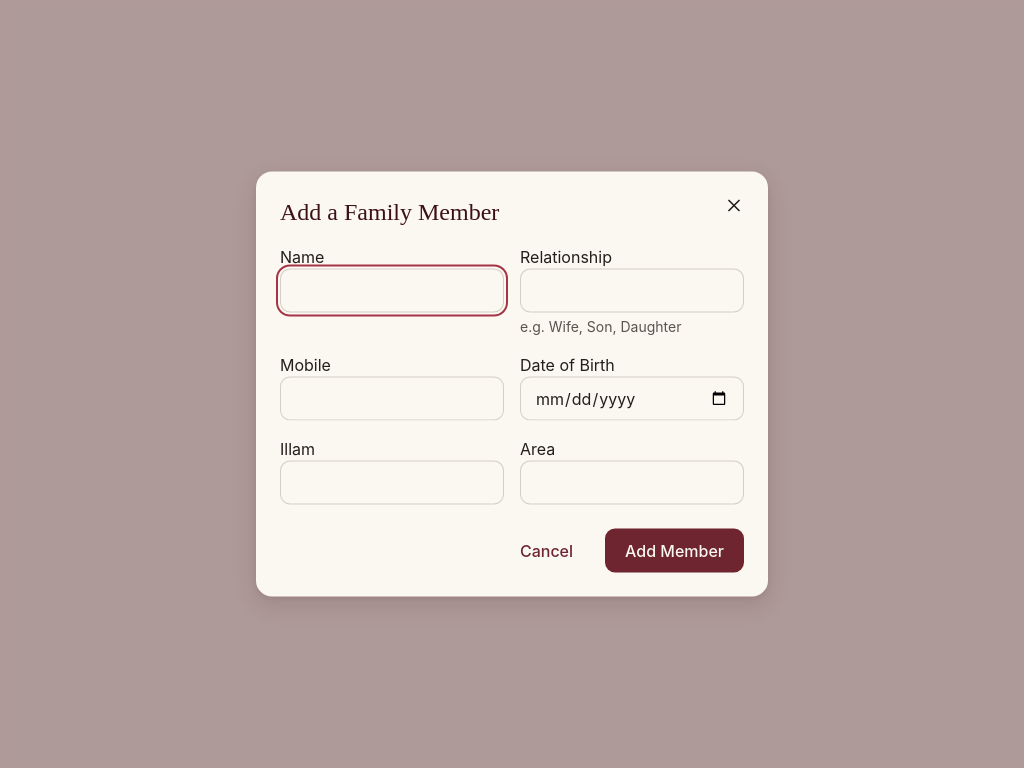
Test: AddFamilyMemberModal › shows validation errors for required fields left blank
The width and height of the screenshot is (1024, 768).
Click the button "Add Member".
click(674, 550)  # box [605,528,744,572]
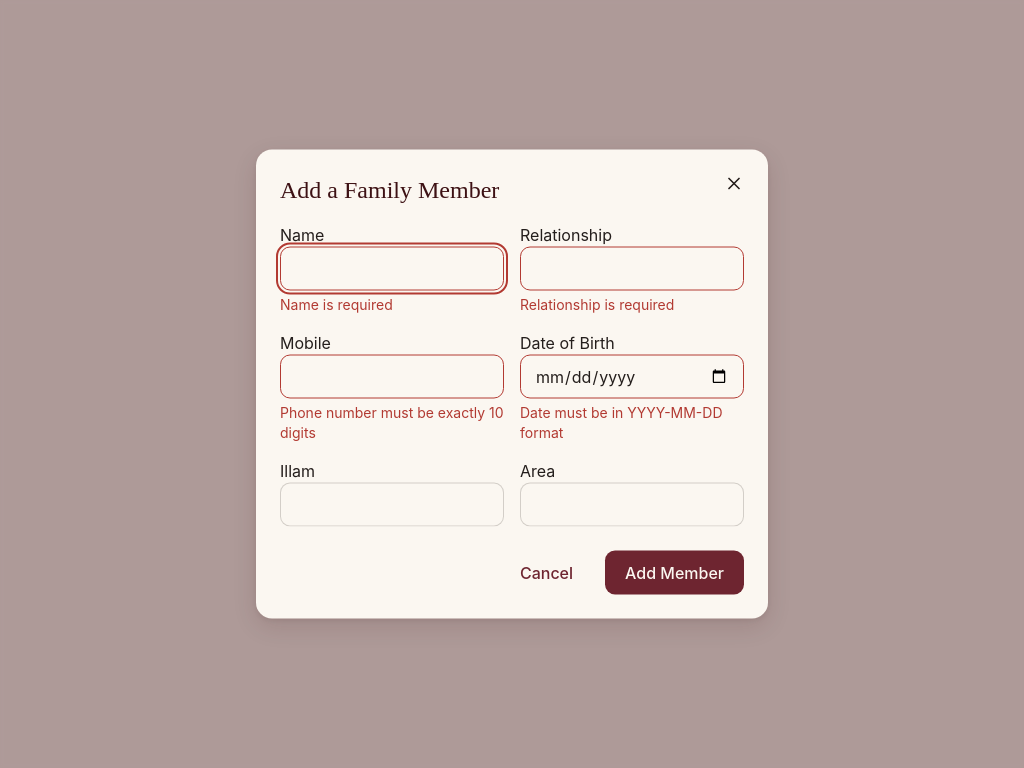
Result: the text "Name is required" is shown at [280,296,393,312]
Result: the text "Relationship is required" is shown at [520,296,674,312]
